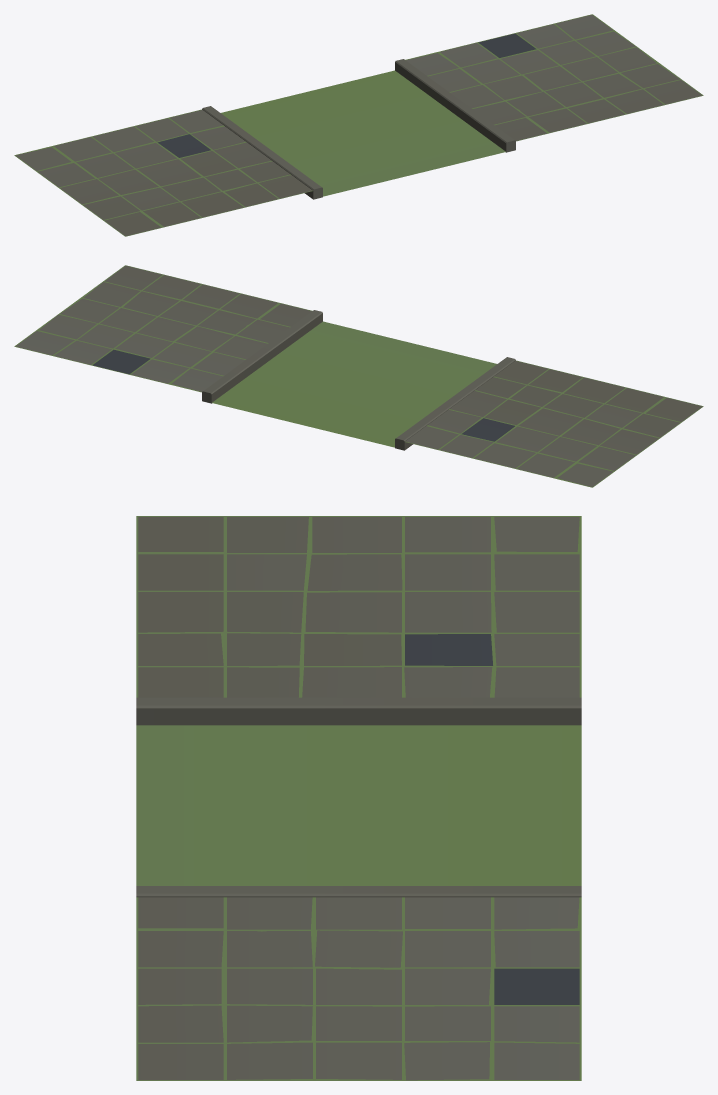
The model's file is Road_07.fbx.
3 views of the same model, one above another, from view 1: azimuth 30°, elevation 25°; view 2: azimuth 150°, elevation 25°; view 3: azimuth 270°, elevation 25° (orthographic). The views are drawn at different scales.
Parts seen in each view (by area): view 1: Road_07; view 2: Road_07; view 3: Road_07.
Boxes of the visible parts, x1,y1,x2,y2 form: Road_07: (14,14,703,236); Road_07: (14,265,703,487); Road_07: (136,516,581,1080).
Bounding box in the file's own units: 9 × 0.15 × 3.
